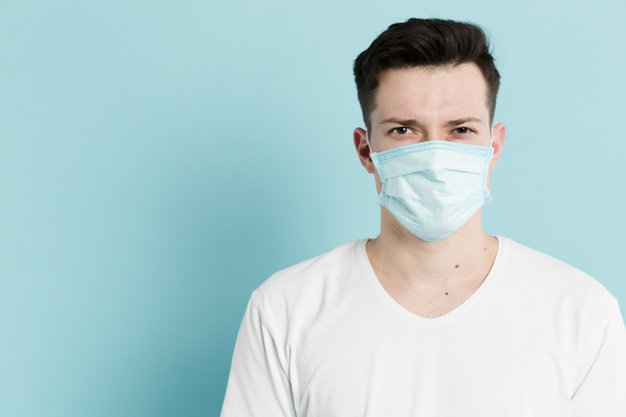mask: (326, 18, 545, 251)
